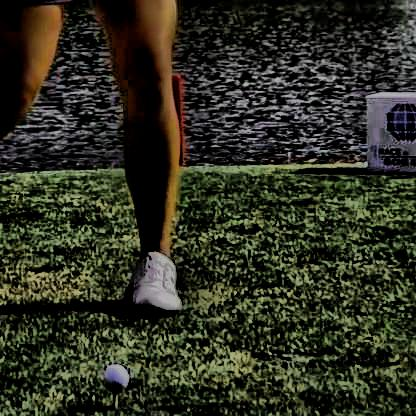golfball: (98, 361, 130, 391)
